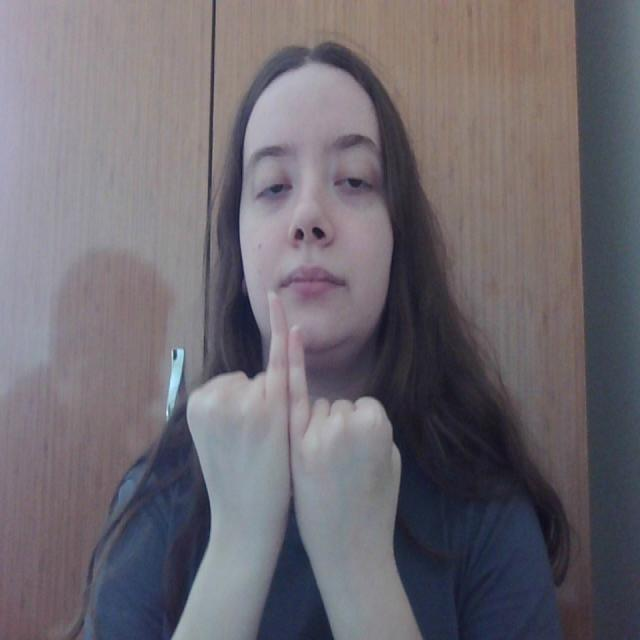Kardes: (182, 288, 408, 569)
